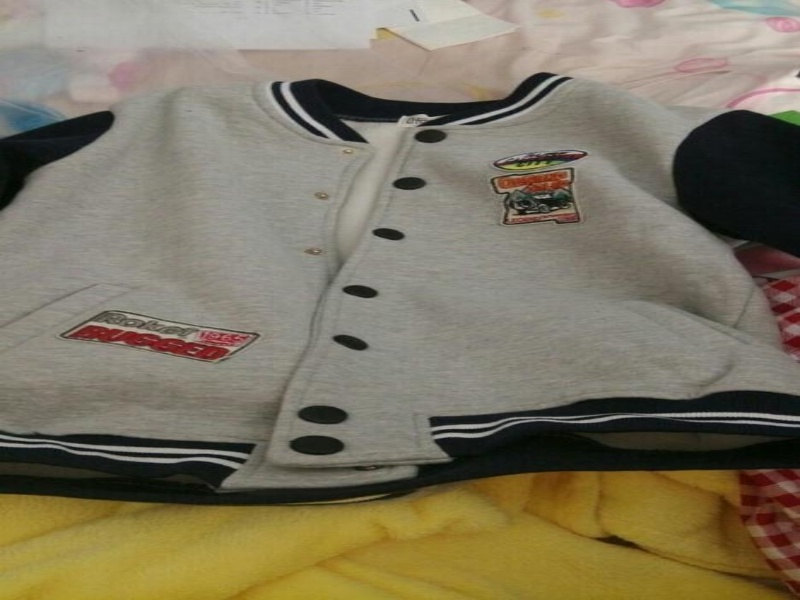long_sleeved_outwear: (2, 71, 797, 509)
